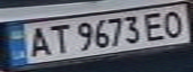3: (121, 12, 145, 45)
6: (90, 17, 112, 50)
7: (106, 15, 127, 47)
9: (72, 19, 96, 52)
A: (21, 25, 54, 58)
E: (139, 10, 172, 42)
O: (157, 8, 190, 38)
T: (45, 21, 72, 55)
